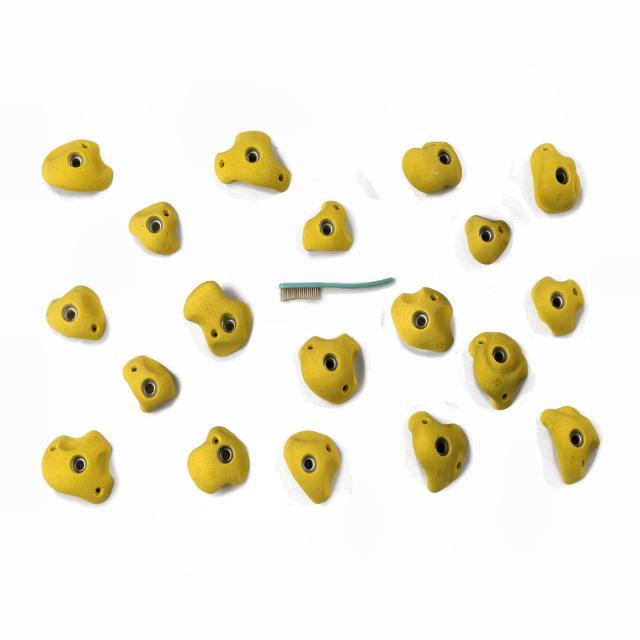Hold: (214, 127, 300, 194), (404, 406, 468, 494), (35, 128, 115, 198), (299, 327, 367, 405), (181, 275, 252, 347), (538, 402, 598, 484), (48, 436, 120, 501), (281, 431, 339, 511), (389, 285, 461, 349), (405, 133, 469, 203), (529, 132, 587, 209), (470, 331, 527, 409), (531, 264, 589, 336), (181, 426, 246, 490), (120, 356, 190, 413), (46, 286, 108, 348), (129, 194, 182, 256), (299, 204, 360, 247), (466, 222, 512, 264)
